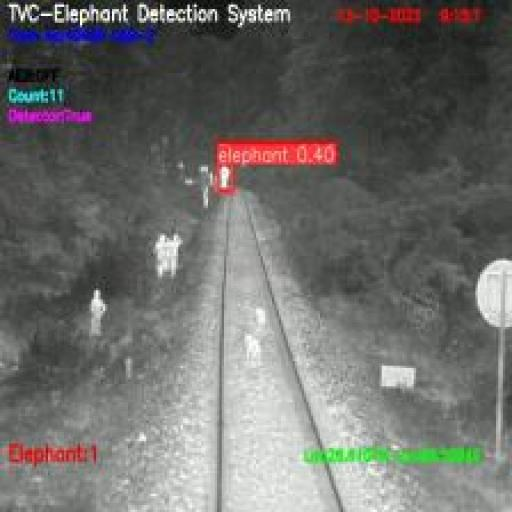Elephant: (217, 162, 232, 191)
